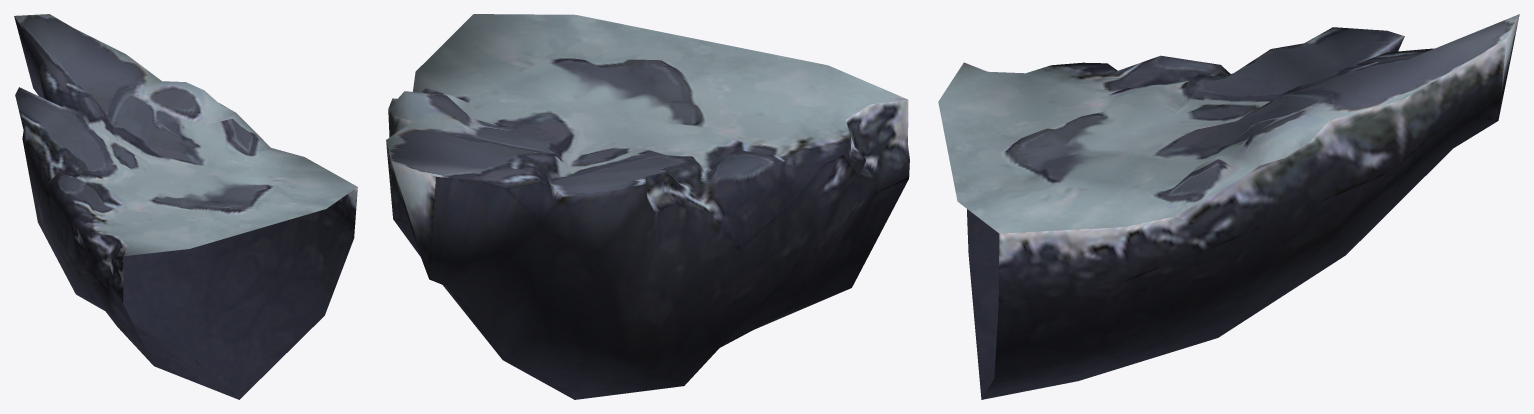
The picture shows the model from 3 angles, left to right: view 1: azimuth 30°, elevation 25°; view 2: azimuth 150°, elevation 25°; view 3: azimuth 270°, elevation 25°; orthographic projection. The views are drawn at different scales.
Visible parts, largest first — view 1: MB0002_05_04; view 2: MB0002_05_04; view 3: MB0002_05_04.
Part boxes in pixels (left/top/right/bottom): MB0002_05_04: left=14, top=14, right=357, bottom=399; MB0002_05_04: left=386, top=14, right=909, bottom=399; MB0002_05_04: left=938, top=14, right=1519, bottom=399.
Size of the model in its own units: 8.65 by 8.36 by 12.2.
